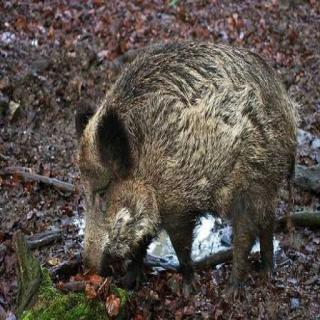Pig: (69, 27, 303, 270)
